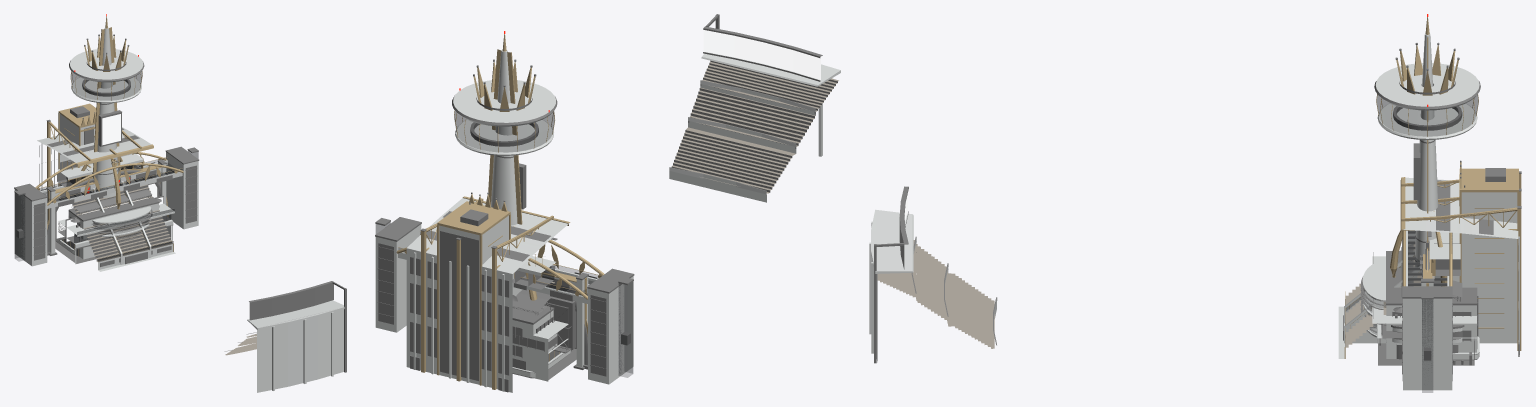
Rendered from meridian-venue-kit.glb.
3 renders of one model, left to right at view 1: azimuth 30°, elevation 25°; view 2: azimuth 150°, elevation 25°; view 3: azimuth 270°, elevation 25°, orthographic. The views are drawn at different scales.
Visible parts, largest first — view 1: bowl-stand-segment / Meridian white composite, race-control-spire / Meridian white composite, crown-bridge / Meridian white composite, crown-bridge / Meridian trim atlas, crown-stand-bay / Meridian trim atlas, crown-stand-bay / Meridian white composite, ring-screen-segment / Meridian trim atlas, race-control-spire / Meridian champagne, crown-bridge / Meridian clear glass, race-control-spire / Meridian clear glass, crown-bridge / Meridian champagne, crown-stand-bay / Meridian concrete (+23 smaller); view 2: bowl-stand-segment-lod / Meridian trim atlas, crown-stand-bay / Meridian white composite, race-control-spire / Meridian white composite, bowl-stand-segment-lod / Meridian concrete, crown-stand-bay / Meridian trim atlas, crown-bridge / Meridian white composite, crown-stand-end / Meridian trim atlas, crown-bridge / Meridian trim atlas, bowl-stand-segment-lod / Meridian white composite, ring-screen-segment / Meridian screen, crown-stand-bay / Meridian champagne, race-control-spire / Meridian champagne (+19 smaller); view 3: race-control-spire / Meridian white composite, crown-stand-end-lod / Meridian white composite, crown-bridge / Meridian white composite, bowl-stand-segment-lod / Meridian concrete, crown-stand-end / Meridian white composite, crown-stand-bay / Meridian white composite, race-control-spire / Meridian clear glass, race-control-spire / Meridian champagne, bowl-stand-segment-lod / Meridian white composite, race-control-spire / Meridian trim atlas, pit-end-block / Meridian white composite, crown-stand-end / Meridian champagne (+11 smaller).
Boxes of the visible parts, left/top/right/bottom form: bowl-stand-segment / Meridian white composite: left=247, top=307, right=344, bottom=392; race-control-spire / Meridian white composite: left=70, top=27, right=143, bottom=243; crown-bridge / Meridian white composite: left=14, top=152, right=198, bottom=266; crown-bridge / Meridian trim atlas: left=14, top=146, right=199, bottom=260; crown-stand-bay / Meridian trim atlas: left=39, top=119, right=172, bottom=266; crown-stand-bay / Meridian white composite: left=37, top=127, right=175, bottom=271; ring-screen-segment / Meridian trim atlas: left=249, top=281, right=333, bottom=320; race-control-spire / Meridian champagne: left=63, top=16, right=142, bottom=256; crown-bridge / Meridian clear glass: left=15, top=151, right=198, bottom=261; race-control-spire / Meridian clear glass: left=71, top=72, right=142, bottom=100; crown-bridge / Meridian champagne: left=35, top=152, right=183, bottom=205; crown-stand-bay / Meridian concrete: left=73, top=184, right=172, bottom=261; bowl-stand-segment-lod / Meridian trim atlas: left=671, top=60, right=837, bottom=192; crown-stand-bay / Meridian white composite: left=406, top=198, right=569, bottom=392; race-control-spire / Meridian white composite: left=453, top=50, right=557, bottom=352; bowl-stand-segment-lod / Meridian concrete: left=672, top=62, right=834, bottom=193; crown-stand-bay / Meridian trim atlas: left=410, top=211, right=557, bottom=392; crown-bridge / Meridian white composite: left=375, top=224, right=633, bottom=384; crown-stand-end / Meridian trim atlas: left=440, top=192, right=505, bottom=380; crown-bridge / Meridian trim atlas: left=375, top=217, right=634, bottom=376; bowl-stand-segment-lod / Meridian white composite: left=669, top=52, right=840, bottom=202; ring-screen-segment / Meridian screen: left=703, top=30, right=820, bottom=79; crown-stand-bay / Meridian champagne: left=421, top=196, right=570, bottom=389; race-control-spire / Meridian champagne: left=454, top=34, right=559, bottom=361; race-control-spire / Meridian white composite: left=1375, top=33, right=1479, bottom=343; crown-stand-end-lod / Meridian white composite: left=1461, top=192, right=1517, bottom=343; crown-bridge / Meridian white composite: left=1403, top=230, right=1452, bottom=390; bowl-stand-segment-lod / Meridian concrete: left=879, top=240, right=994, bottom=348; crown-stand-end / Meridian white composite: left=1344, top=192, right=1517, bottom=343; crown-stand-bay / Meridian white composite: left=1338, top=177, right=1519, bottom=358; race-control-spire / Meridian clear glass: left=1377, top=95, right=1477, bottom=136; race-control-spire / Meridian champagne: left=1376, top=17, right=1478, bottom=286; bowl-stand-segment-lod / Meridian white composite: left=875, top=209, right=913, bottom=272; race-control-spire / Meridian trim atlas: left=1374, top=42, right=1480, bottom=359; pit-end-block / Meridian white composite: left=1362, top=260, right=1476, bottom=358; crown-stand-end / Meridian champagne: left=1346, top=162, right=1519, bottom=328.
Bounding box in the file's own units: 71.3 × 85.78 × 158.
